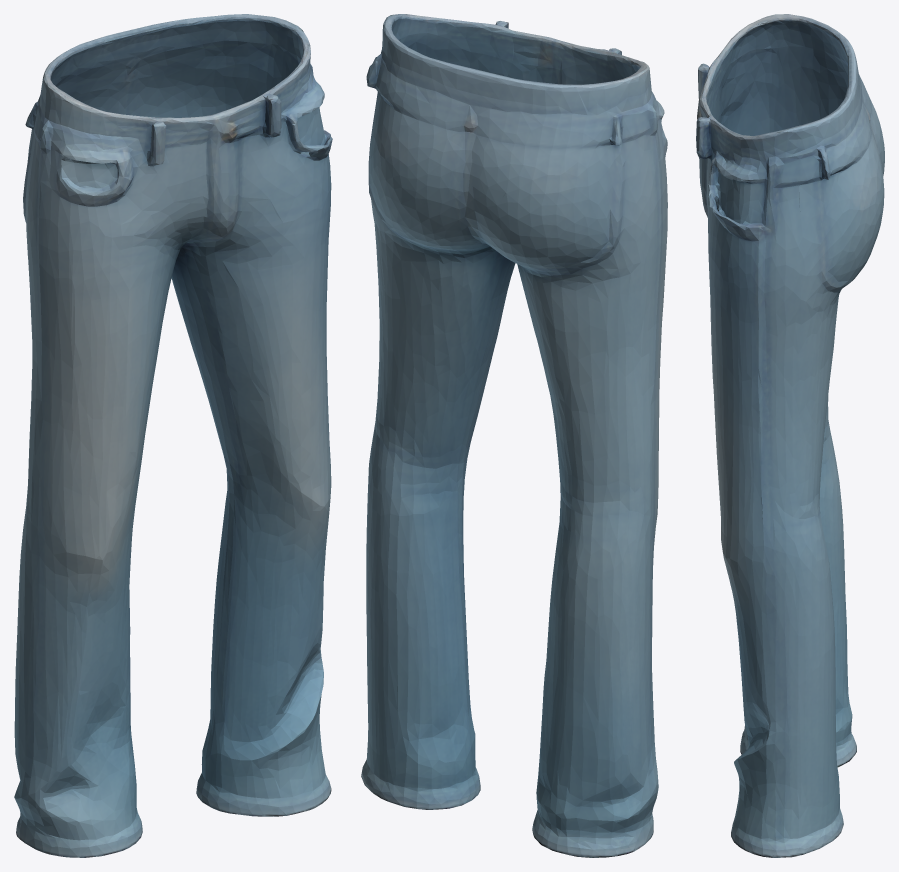
The model's file is Straight_Jeans.glb.
3 renders of one model, left to right at view 1: azimuth 30°, elevation 25°; view 2: azimuth 150°, elevation 25°; view 3: azimuth 270°, elevation 25°, orthographic. The views are drawn at different scales.
Visible parts, largest first — view 1: world; view 2: world; view 3: world.
Part boxes in pixels (x1,y1,x2,y2): world: (14,14,332,857); world: (361,14,667,857); world: (696,14,884,857).
Size of the model in its own units: 0.4046 by 1 by 0.2382.
1 material, 1 textured.
